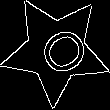O_SW: (24, 18, 88, 82)
